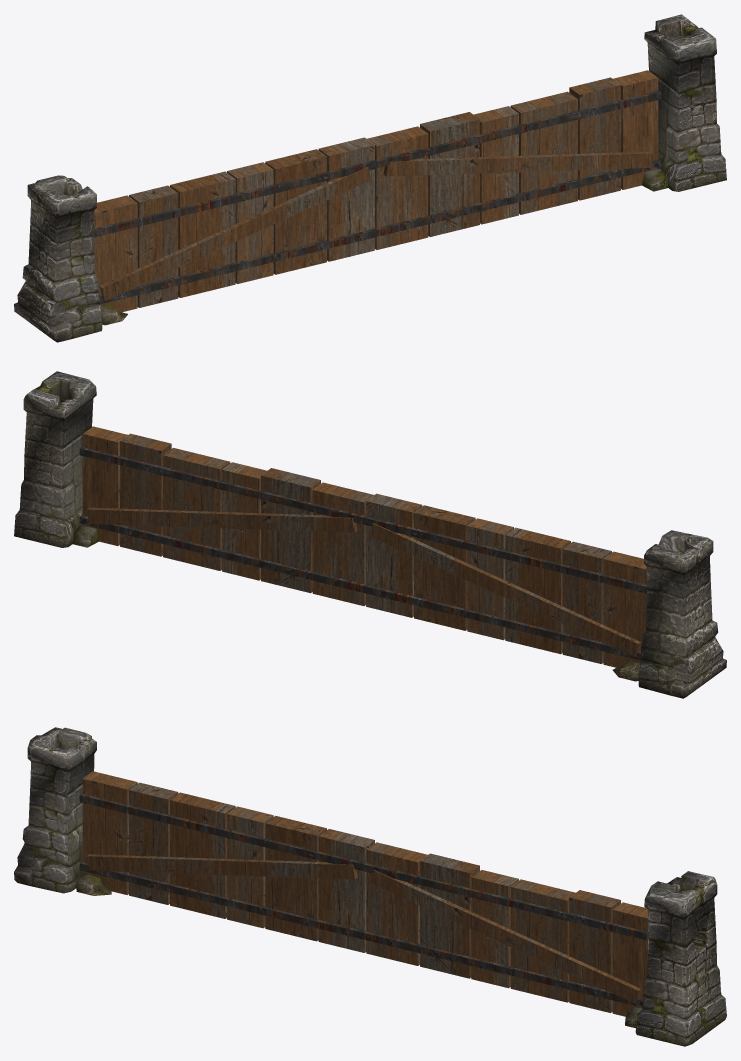
Rendered from gate.glb.
3 views of the same model, one above another, from view 1: azimuth 30°, elevation 25°; view 2: azimuth 150°, elevation 25°; view 3: azimuth 330°, elevation 25° (orthographic).
Parts seen in each view (by area): view 1: left, right, doorLeftPlank2, doorRightPlank2, doorRightPlank5, doorLeftPlank4, doorRightPlank4, doorLeftPlank5, doorLeftBrace, doorRightBrace, doorRightPlank1, doorLeftPlank1 (+4 smaller); view 2: left, right, doorLeftPlank2, doorRightPlank2, doorRightPlank5, doorLeftPlank4, doorRightPlank4, doorLeftPlank5, doorLeftBrace, doorRightBrace, doorRightPlank1, doorLeftPlank1 (+4 smaller); view 3: right, left, doorLeftPlank2, doorRightPlank2, doorLeftPlank4, doorRightPlank5, doorRightPlank4, doorLeftPlank5, doorRightBrace, doorLeftPlank0, doorLeftBrace, doorRightPlank1 (+5 smaller).
Part boxes in pixels (x1,y1,x2,y2): left: [14, 175, 102, 342]; right: [644, 14, 726, 191]; doorLeftPlank2: [170, 171, 238, 297]; doorRightPlank2: [510, 91, 580, 214]; doorRightPlank5: [367, 126, 430, 249]; doorLeftPlank4: [265, 149, 330, 274]; doorRightPlank4: [420, 112, 482, 236]; doorLeftPlank5: [318, 137, 377, 261]; doorLeftBrace: [99, 167, 370, 300]; doorRightBrace: [383, 151, 654, 176]; doorRightPlank1: [569, 77, 623, 200]; doorLeftPlank1: [129, 185, 181, 307]; left: [638, 530, 726, 698]; right: [14, 371, 96, 547]; doorLeftPlank2: [502, 527, 570, 654]; doorRightPlank2: [160, 448, 230, 570]; doorRightPlank5: [310, 482, 373, 605]; doorLeftPlank4: [410, 505, 475, 630]; doorRightPlank4: [258, 468, 320, 593]; doorLeftPlank5: [363, 493, 422, 617]; doorLeftBrace: [370, 523, 641, 656]; doorRightBrace: [86, 507, 357, 532]; doorRightPlank1: [117, 433, 171, 556]; doorLeftPlank1: [560, 541, 611, 663]; right: [635, 871, 726, 1046]; left: [14, 727, 96, 893]; doorLeftPlank2: [166, 792, 235, 918]; doorRightPlank2: [507, 879, 575, 1002]; doorLeftPlank4: [262, 815, 326, 941]; doorRightPlank5: [363, 842, 427, 965]; doorRightPlank4: [416, 853, 479, 978]; doorLeftPlank5: [315, 829, 374, 952]; doorRightBrace: [370, 870, 640, 1003]; doorLeftPlank0: [79, 771, 137, 894]; doorLeftBrace: [86, 854, 357, 879]; doorRightPlank1: [566, 890, 620, 1012].
Bounding box in the file's own units: 2.28 × 0.4526 × 0.2446.
Materials: 5 (5 with a texture image).
